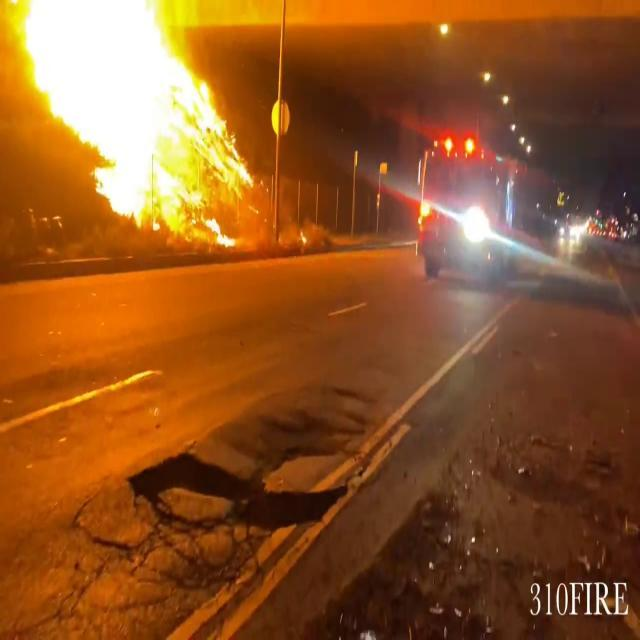Fire: (3, 0, 260, 242)
